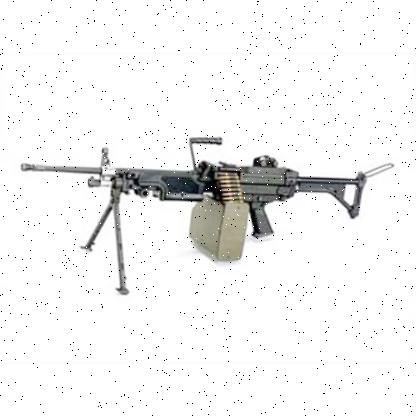gun: (20, 136, 394, 294)
